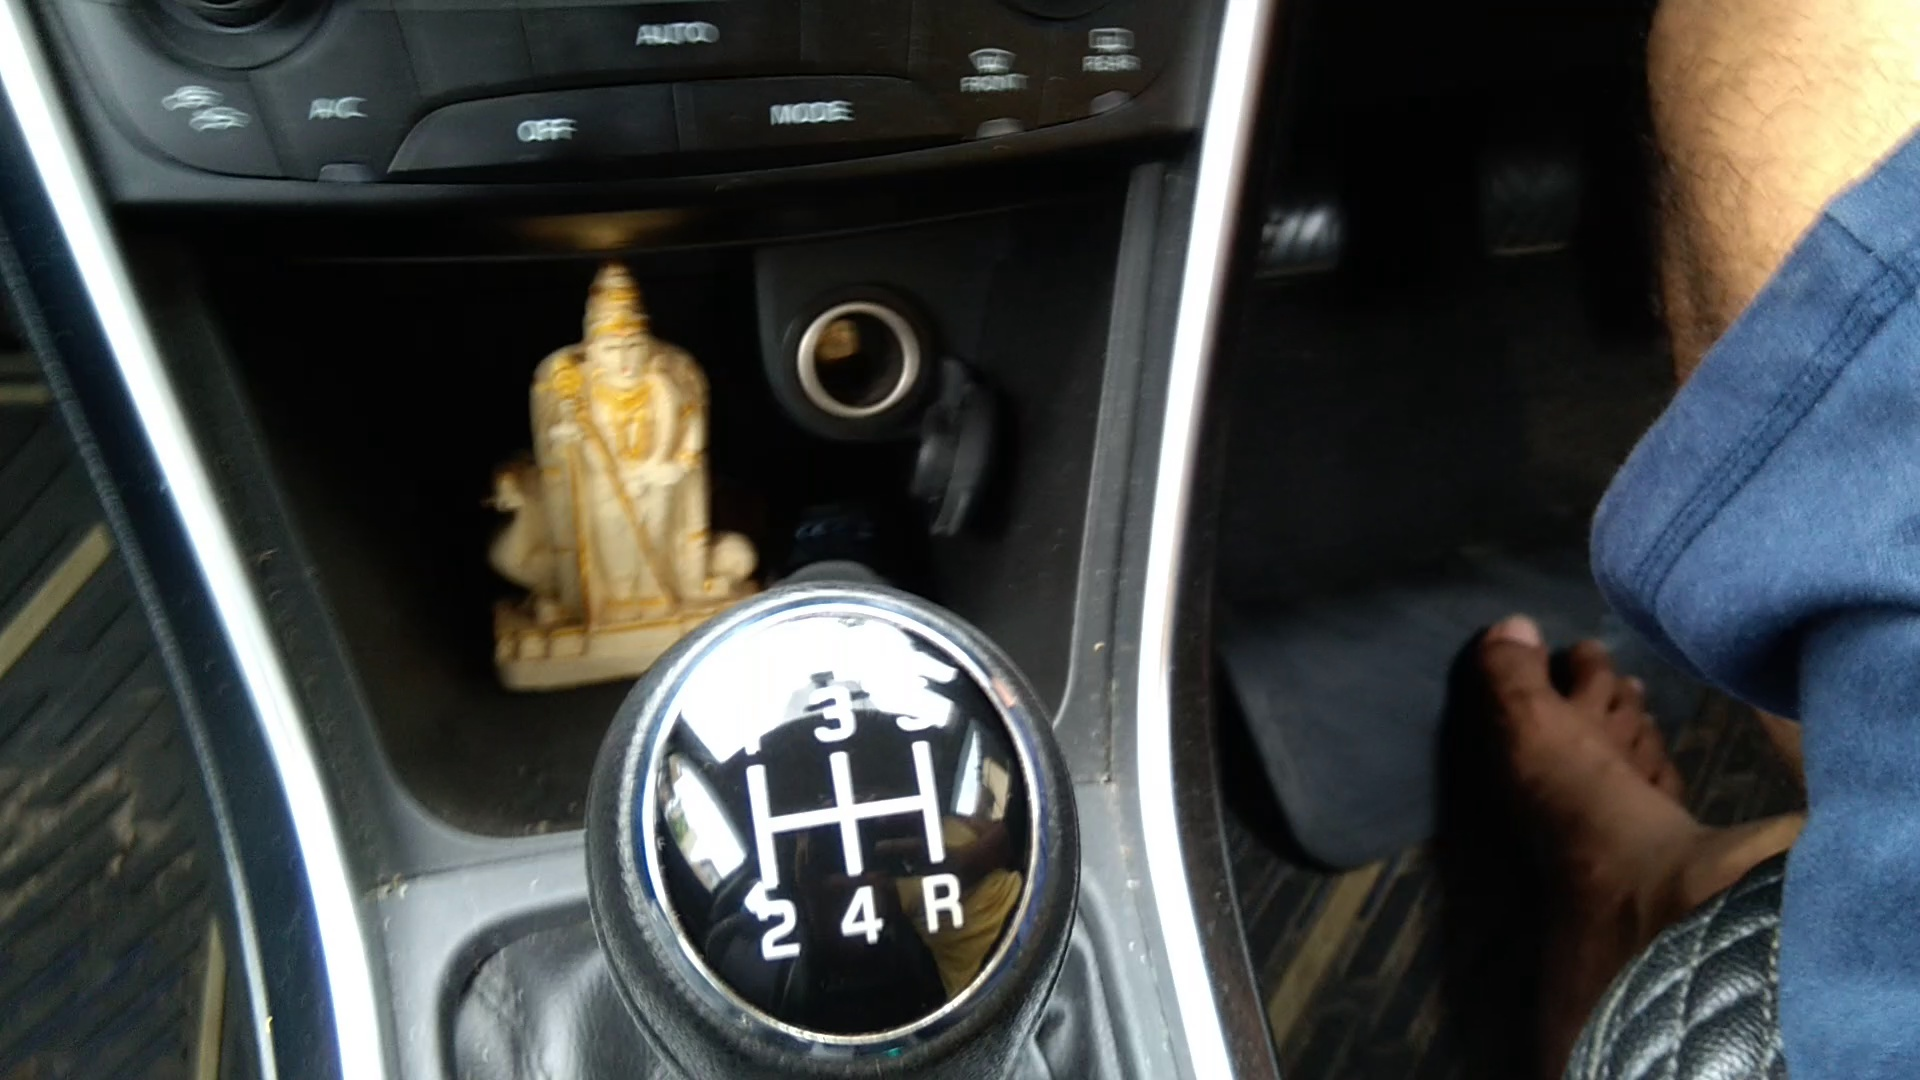manual_gear: (599, 580, 1081, 1080)
